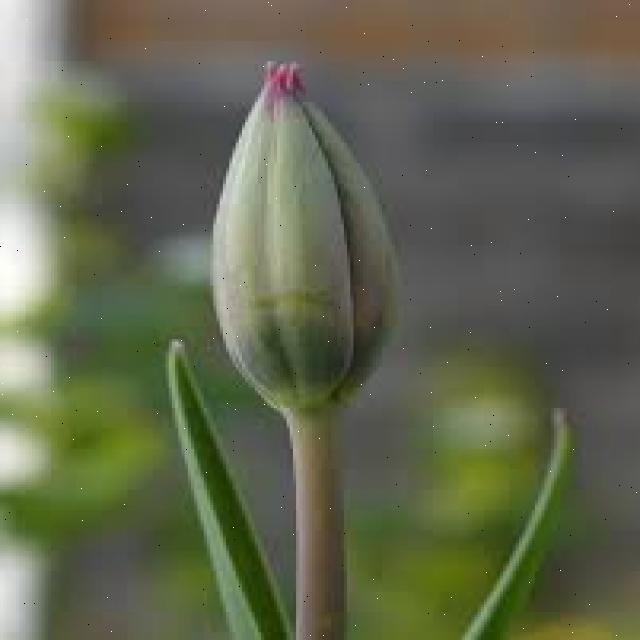Unbloomed: (204, 56, 404, 416)
